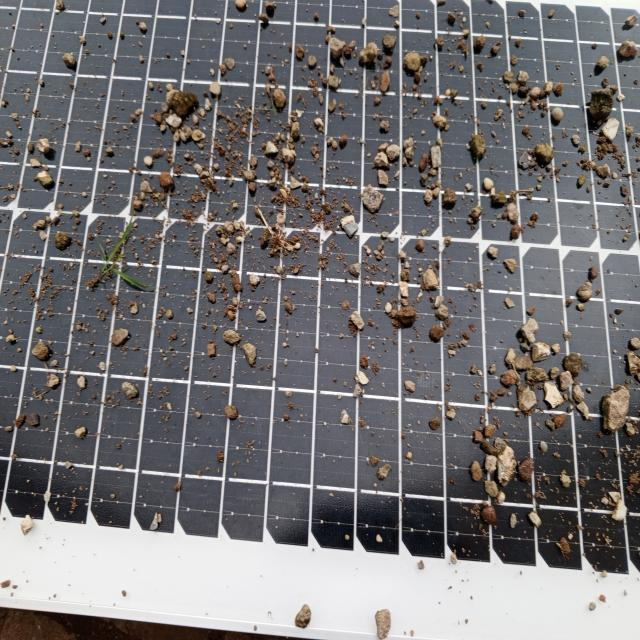Surface Contaminant: (0, 9, 639, 606)
